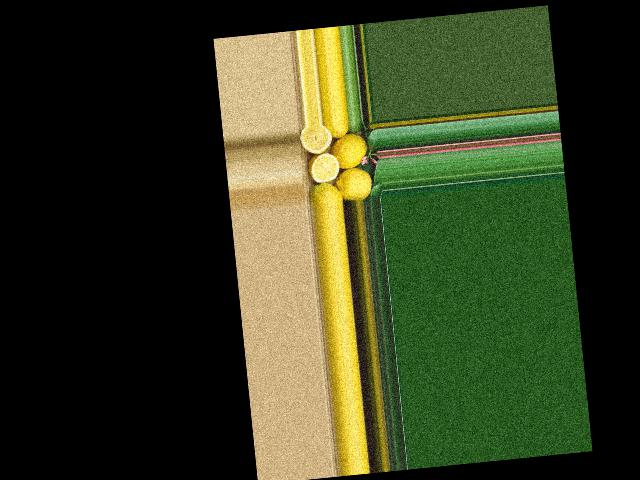lemon: (309, 176, 346, 205)
